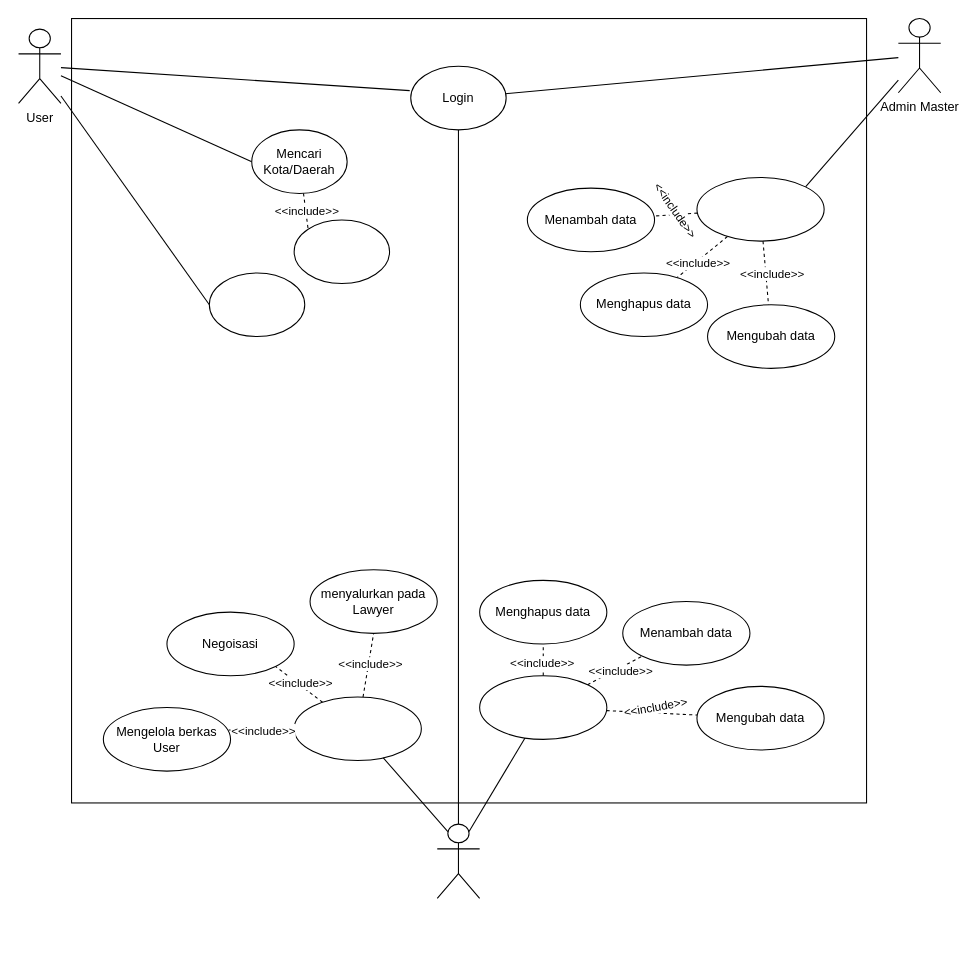
Image size: 977x955. Some labels were removed from this diagram. Here are the shapes that lost their labels. From the top down, the centre of each, then its label:
At pixel 760 208: "Mengelola data".
At pixel 341 251: "Memilih OBH/LBH".
At pixel 256 304: "Registrasi pada OBH/LBH".
At pixel 543 707: "Mengelola data LBH".
At pixel 357 728: "Menindak lanjuti Permintaan User".
At pixel 458 860: "Admin LBH".
